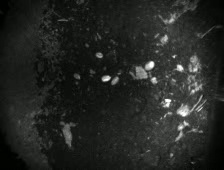corn: (142, 60, 156, 72), (99, 72, 112, 84), (93, 49, 106, 61), (110, 75, 122, 87), (71, 70, 83, 82)
